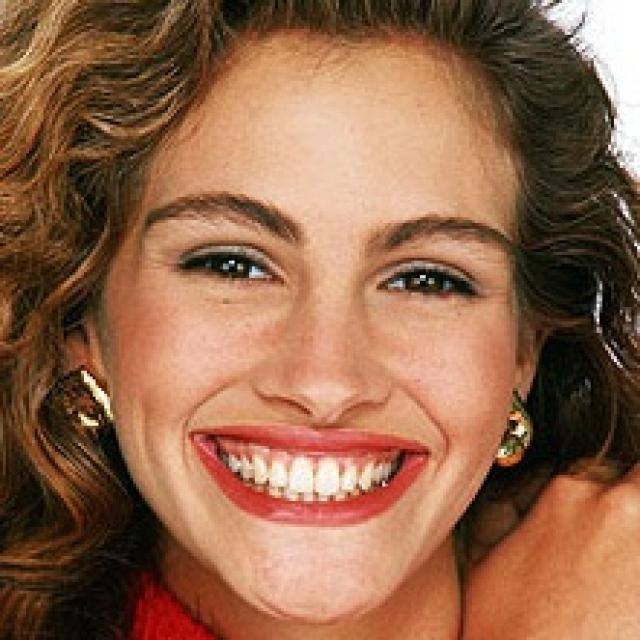Normal: (100, 35, 526, 624)
